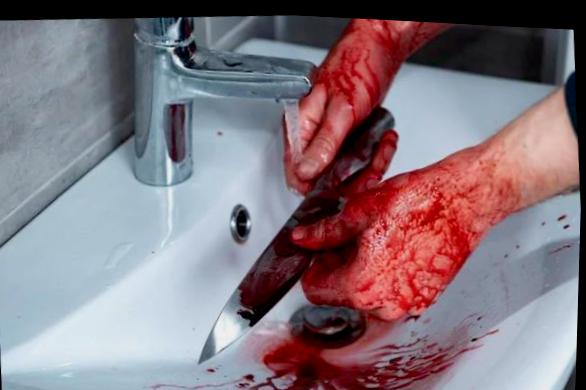Fire: (201, 103, 487, 358), (153, 299, 502, 390), (306, 14, 450, 114), (522, 232, 581, 286)
